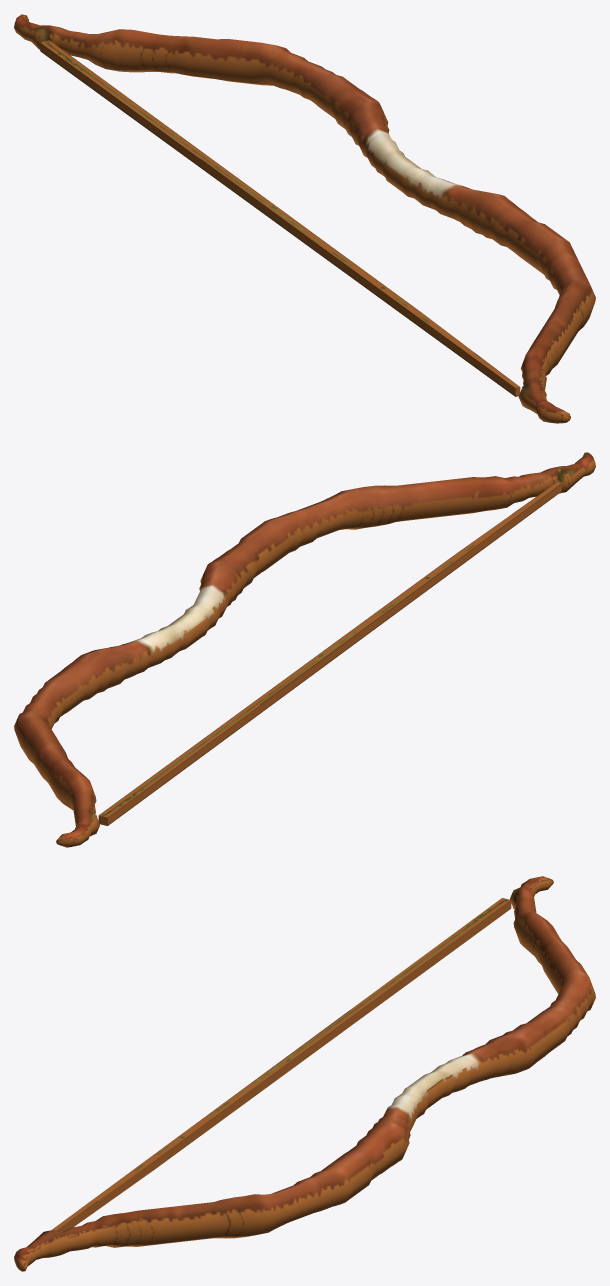
Rendered from item_mm9_10042.glb.
3 renders of one model, top to bottom at view 1: azimuth 30°, elevation 25°; view 2: azimuth 150°, elevation 25°; view 3: azimuth 330°, elevation 25°, orthographic. The views are drawn at different scales.
Parts seen in each view (by area): view 1: d10042; view 2: d10042; view 3: d10042.
Part boxes in pixels (bbox=[...]): d10042: bbox=[14, 14, 595, 423]; d10042: bbox=[14, 452, 595, 847]; d10042: bbox=[14, 876, 595, 1271].
Bounding box in the file's own units: 36.09 × 7.67 × 179.
1 material, 1 textured.
